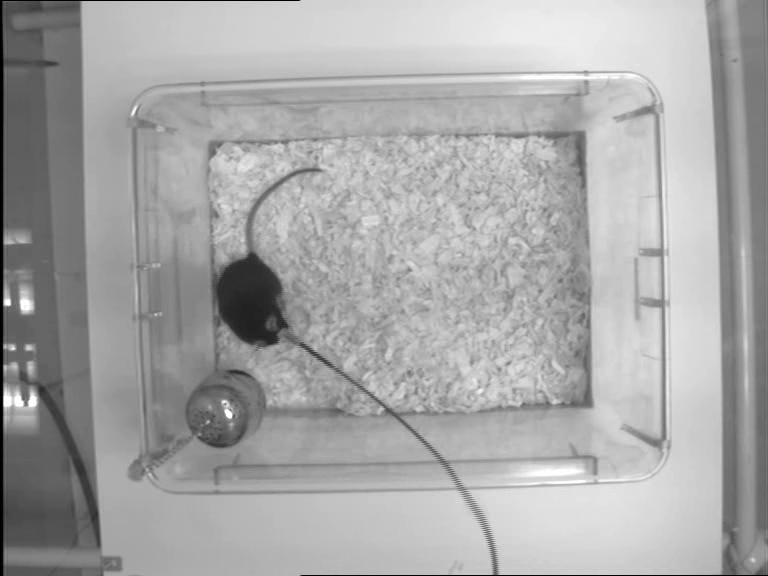mice: (217, 164, 324, 349)
